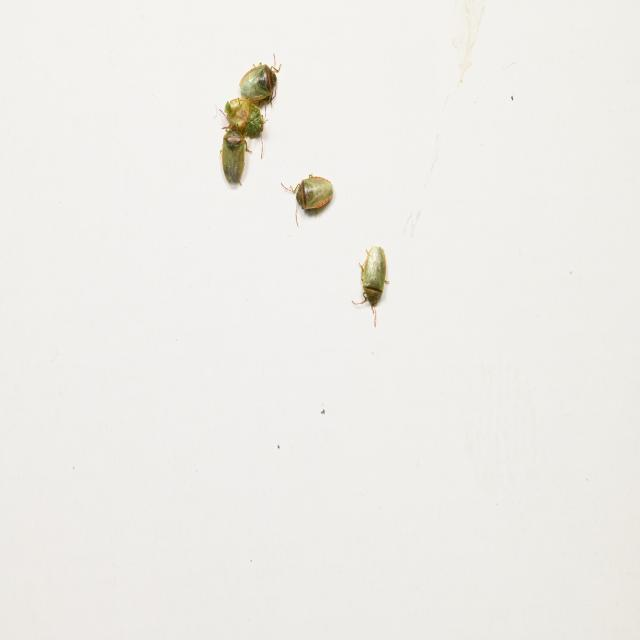stinkbug: (214, 108, 252, 190), (352, 245, 389, 328), (219, 98, 268, 160), (280, 173, 334, 228), (238, 53, 282, 108)
